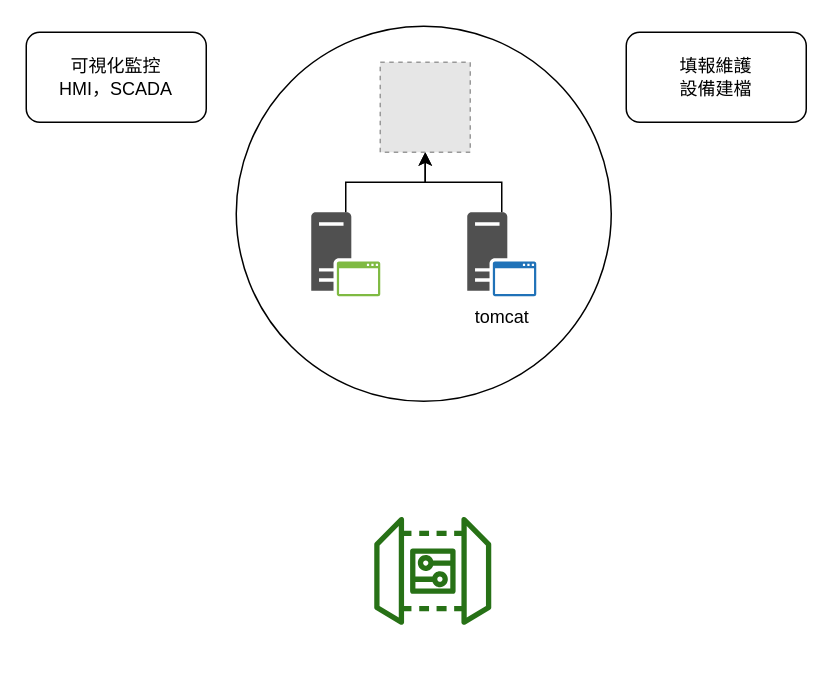
Some shapes in this 833 by 687 pixel diagram are drawn without their labels. Grey dashed boxes stand in for pictures. The shapes that lost their labels are listed below. From the top down, each one's centre as x and y in pixels, then its label:
At pixel 345 254: "node-red(node.js)".
At pixel 432 570: "iot-gateway(Modbus TCP)".
